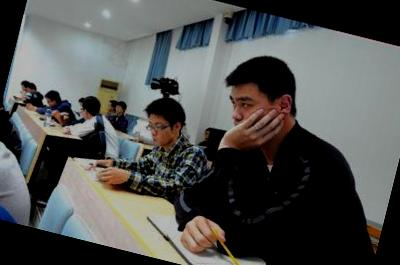no_vest: (205, 119, 376, 265), (128, 130, 205, 207)
person: (174, 46, 400, 265), (116, 88, 212, 204), (64, 92, 125, 155)
